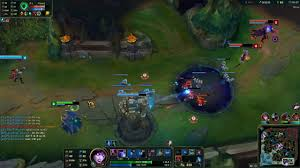bar: (248, 18, 279, 26), (226, 42, 259, 49), (50, 100, 81, 107), (1, 55, 28, 62)
